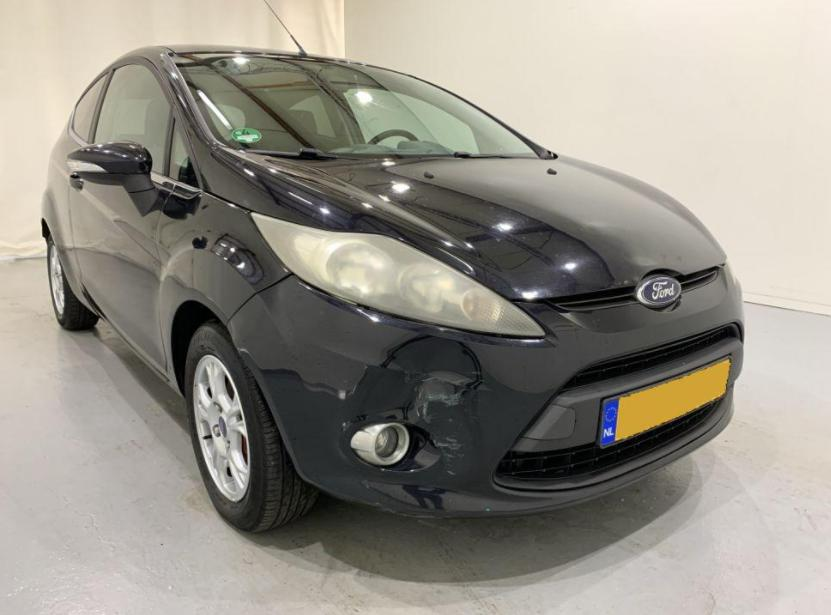Back-wheel: (46, 236, 97, 329)
Back-window: (70, 73, 107, 144)
Fender: (156, 189, 292, 396)
Front-bumper: (226, 258, 744, 519)
Front-door: (70, 58, 207, 371)
Front-wheel: (184, 321, 318, 530)
Front-window: (94, 65, 168, 173), (169, 121, 198, 189)
Grille: (501, 399, 718, 478), (563, 325, 738, 391), (545, 268, 714, 311)
Headlight: (252, 212, 547, 336)
Hood: (218, 148, 725, 299)
License-plate: (597, 358, 730, 448)
Mirror: (69, 145, 157, 213)
Quarter-panel: (40, 123, 86, 300)
Rocker-panel: (78, 280, 181, 398)
Roof: (116, 44, 352, 63)
Windshield: (173, 53, 536, 157)
